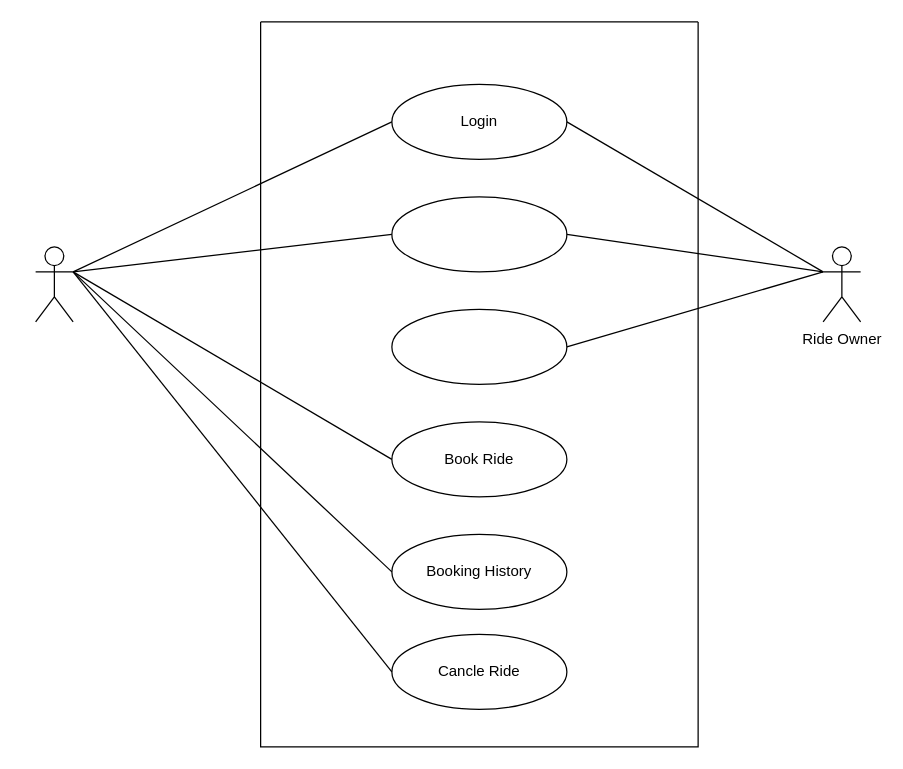
The diagram is 903 pixels wide and 769 high, and some of its shapes have lost their labels. The shapes that lost their labels are listed below. From the top down, each one's box as (x1, y1, x2, y2) in pixels, then its label:
(391, 196, 567, 272): Registration
(34, 246, 73, 322): Customer
(391, 308, 567, 384): Publish Ride
